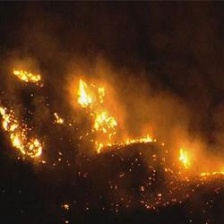fire: (76, 80, 119, 131), (5, 114, 42, 157), (176, 146, 192, 169), (13, 70, 41, 83), (125, 136, 158, 145)
